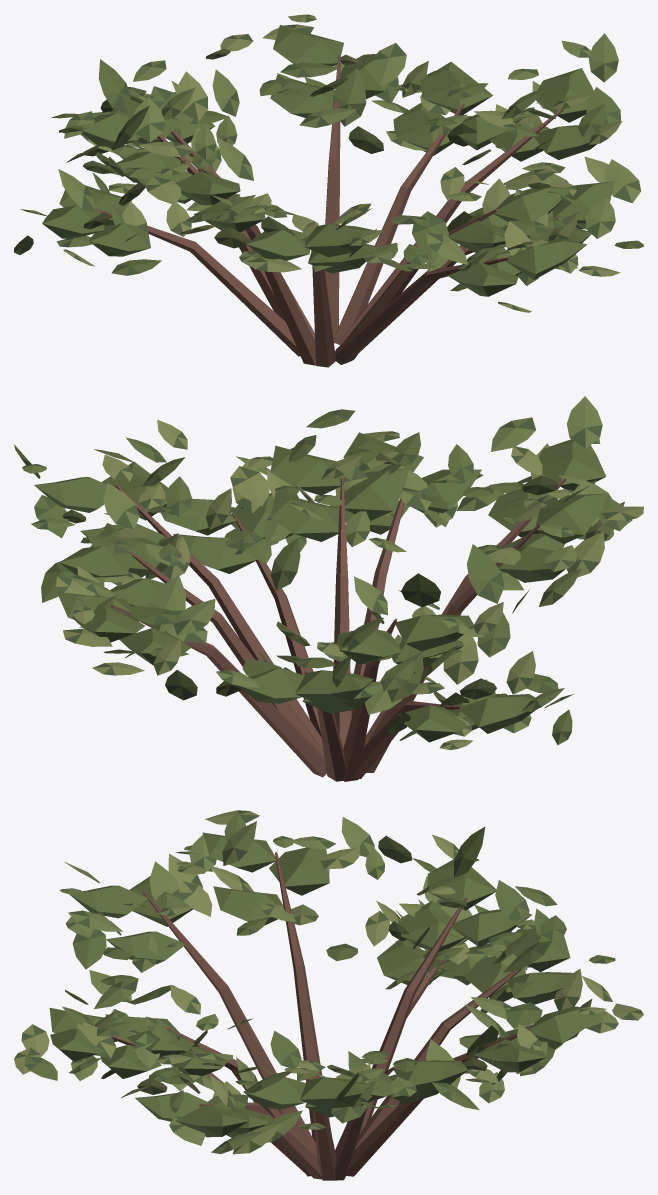
File: shrub.glb
3 views of the same model, one above another, from view 1: azimuth 30°, elevation 25°; view 2: azimuth 150°, elevation 25°; view 3: azimuth 270°, elevation 25° (orthographic). The views are drawn at different scales.
Visible parts, largest first — view 1: Creased glossy shrub leaves with shaded inner sprays, Shrub basal forks and secondary branchlets; view 2: Creased glossy shrub leaves with shaded inner sprays, Shrub basal forks and secondary branchlets; view 3: Creased glossy shrub leaves with shaded inner sprays, Shrub basal forks and secondary branchlets.
Boxes of the visible parts, x1,y1,x2,y2 form: Creased glossy shrub leaves with shaded inner sprays: (14, 14, 643, 312); Shrub basal forks and secondary branchlets: (95, 55, 563, 367); Creased glossy shrub leaves with shaded inner sprays: (14, 396, 643, 749); Shrub basal forks and secondary branchlets: (111, 471, 566, 781); Creased glossy shrub leaves with shaded inner sprays: (14, 810, 643, 1154); Shrub basal forks and secondary branchlets: (111, 852, 531, 1180).
Size of the model in its own units: 1.98 by 0.951 by 1.96.
